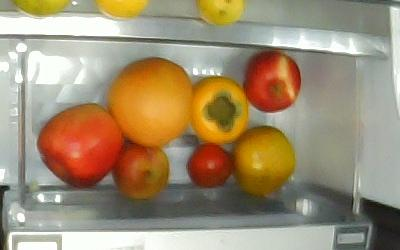apple: (35, 101, 125, 187), (241, 49, 301, 112)
grapefruit: (105, 55, 193, 146)
persimmon: (230, 124, 294, 196), (189, 74, 248, 144)
prune: (111, 141, 169, 201), (185, 141, 231, 187)
